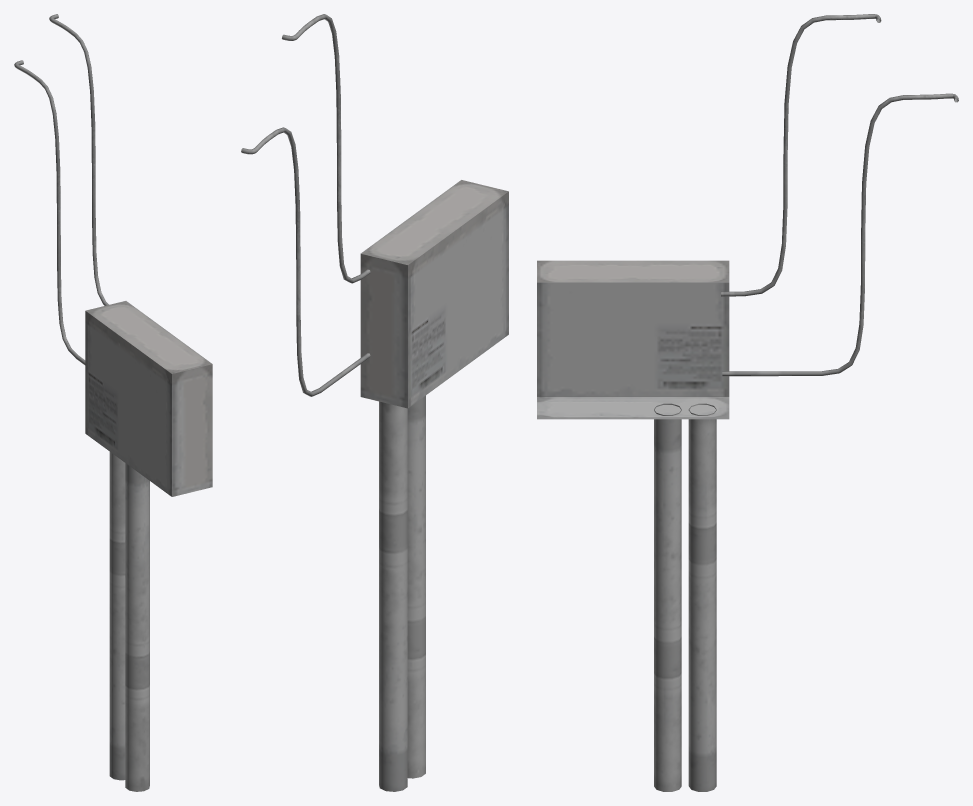
File: MB_Electric_Meter_06.fbx
3 renders of one model, left to right at view 1: azimuth 30°, elevation 25°; view 2: azimuth 150°, elevation 25°; view 3: azimuth 270°, elevation 25°, orthographic. The views are drawn at different scales.
Parts seen in each view (by area): view 1: MB_Electric_Meter_06_LOD0; view 2: MB_Electric_Meter_06_LOD0; view 3: MB_Electric_Meter_06_LOD0.
Boxes of the visible parts, box(x1,y1,x2,y2) form: MB_Electric_Meter_06_LOD0: box(14, 14, 212, 791); MB_Electric_Meter_06_LOD0: box(241, 14, 508, 791); MB_Electric_Meter_06_LOD0: box(537, 14, 958, 791).
Size of what is drawn, in the model's own units: 6.41 by 105 by 51.76.
